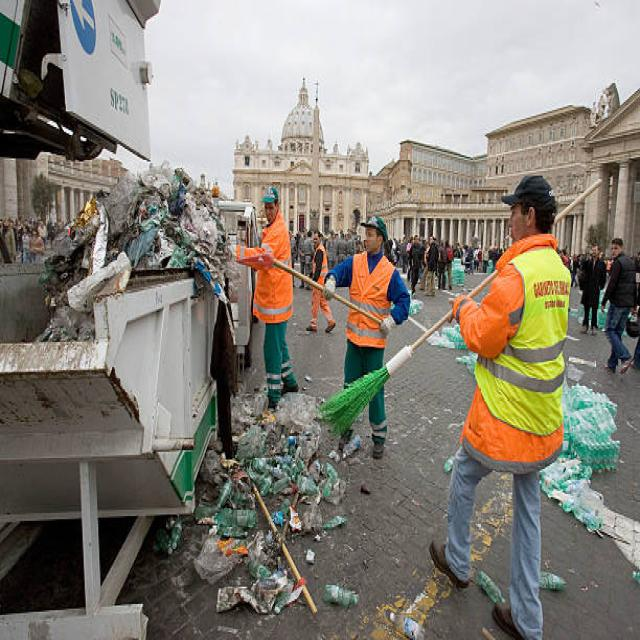plastic: (562, 389, 620, 511), (450, 262, 466, 290)
trash: (191, 398, 344, 618), (53, 172, 220, 296)
